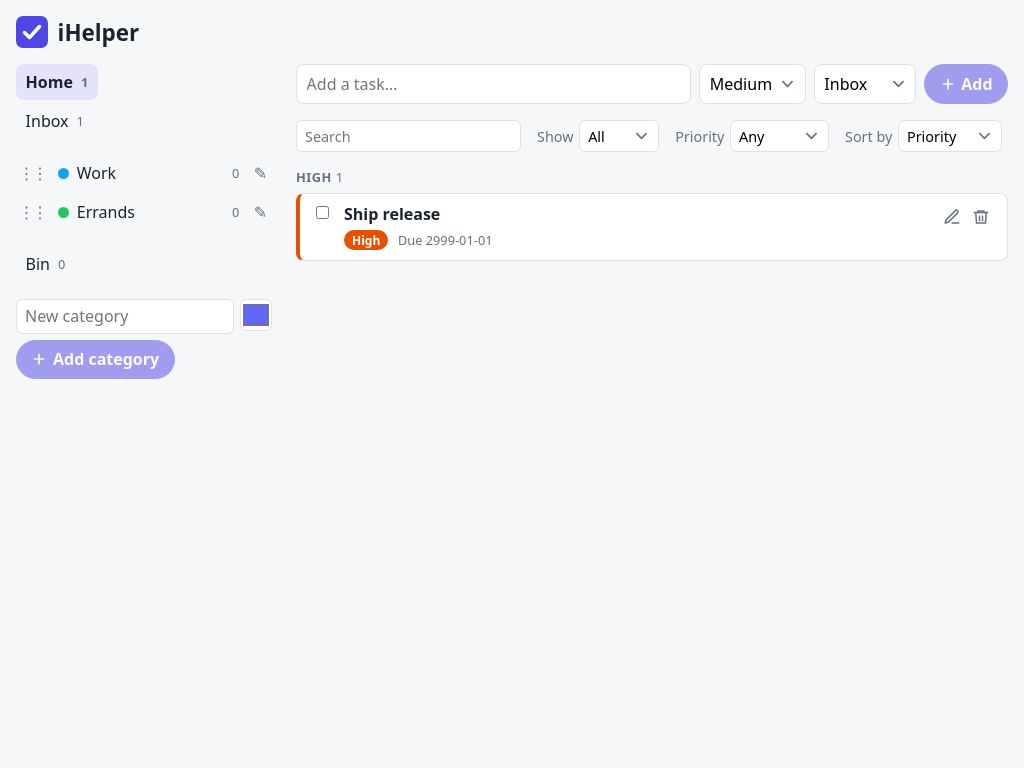
Test: App › edits a task in the dialog and clears the due date with null
Click the button named "Edit Ship release" at {"x": 952, "y": 217}, box left=938, top=203, right=966, bottom=231
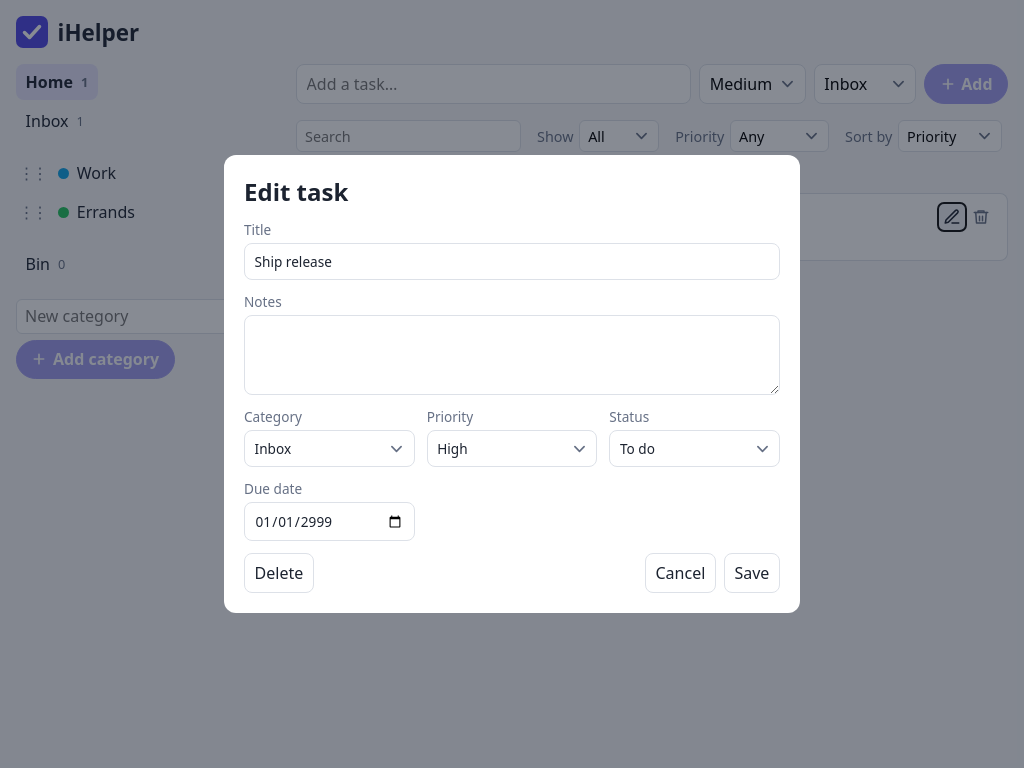
Replace the text in the field labelled "Title" with "Ship v2" at {"x": 512, "y": 262}, box left=244, top=243, right=780, bottom=280
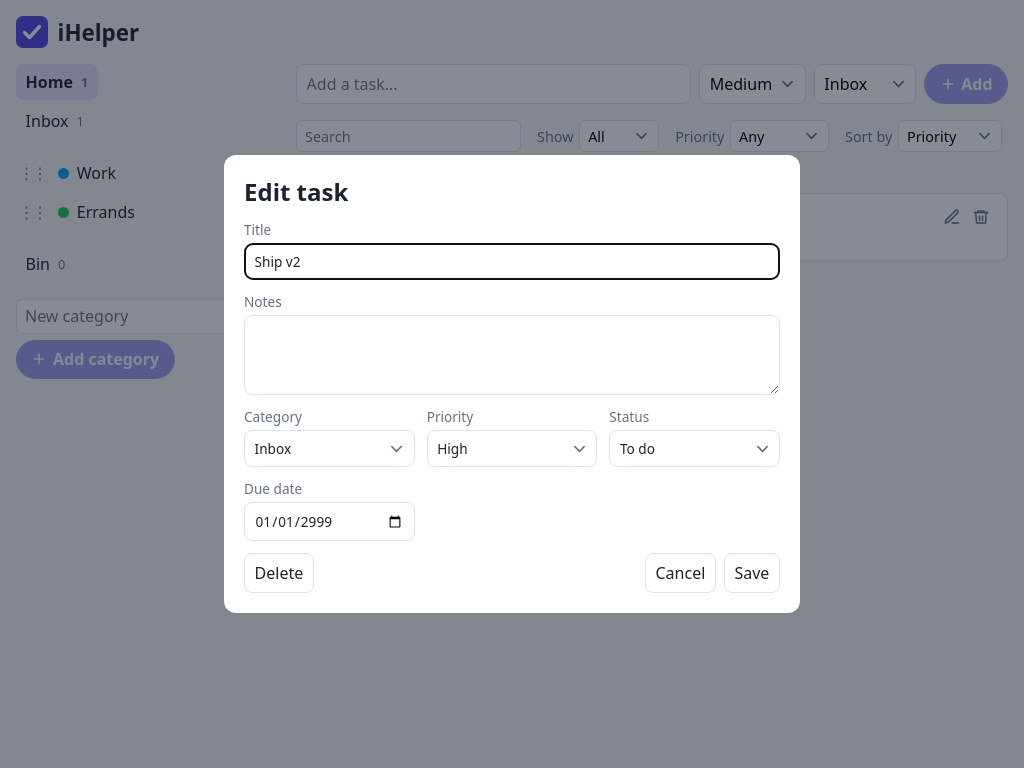
Clear the date field labelled "Due date" at {"x": 329, "y": 522}, box left=244, top=502, right=415, bottom=541
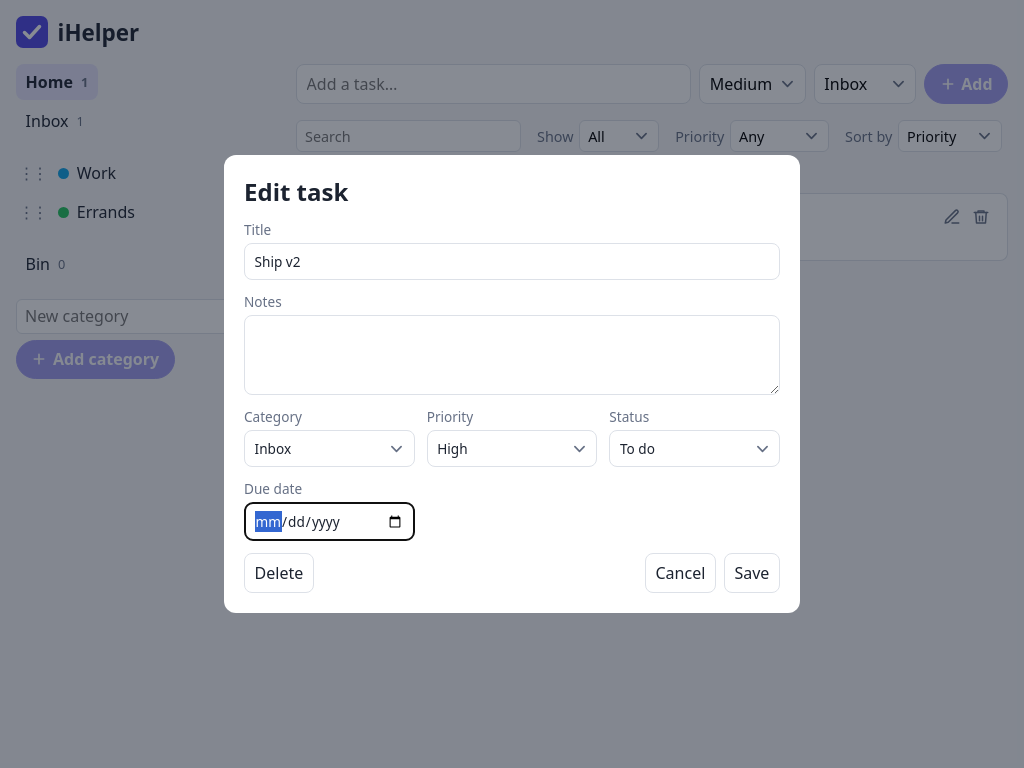
Click the button "Save" at {"x": 752, "y": 573}, box left=724, top=553, right=780, bottom=593
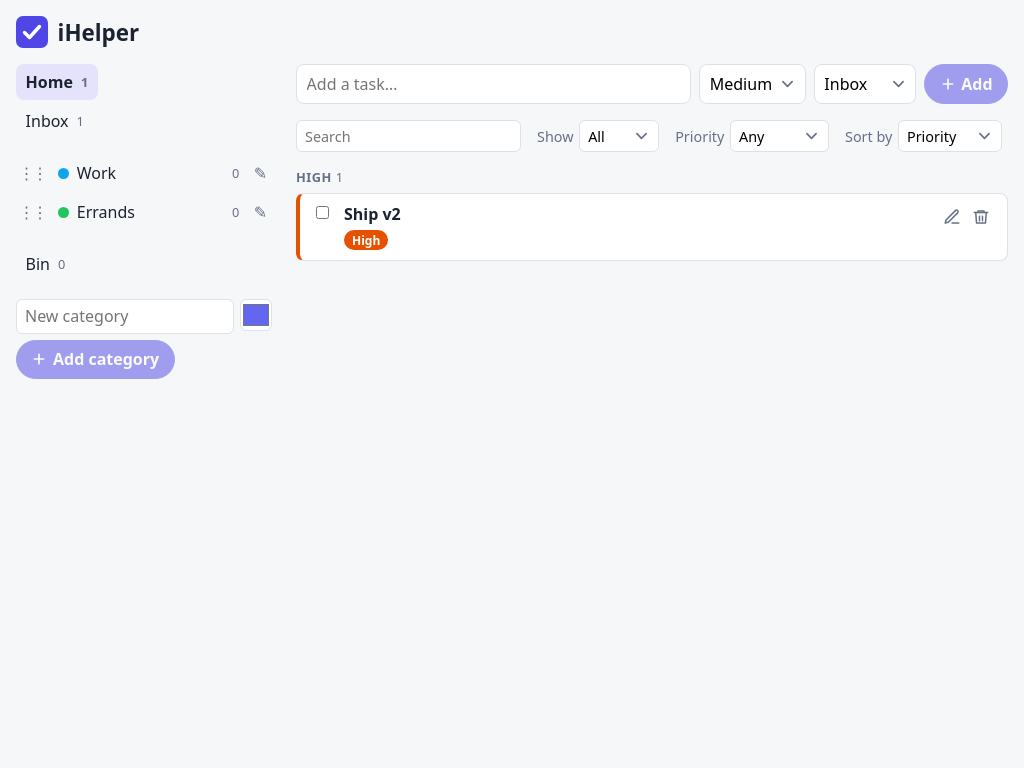
Now the dialog is gone
Now the button "Ship v2" is shown, box left=344, top=203, right=401, bottom=225
